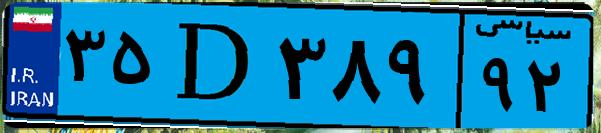2: (525, 38, 570, 115)
3: (270, 28, 330, 110), (57, 26, 110, 100)
5: (110, 28, 158, 98)
8: (330, 28, 385, 110)
9: (385, 28, 445, 110), (475, 38, 525, 113)
D: (158, 12, 270, 120)
